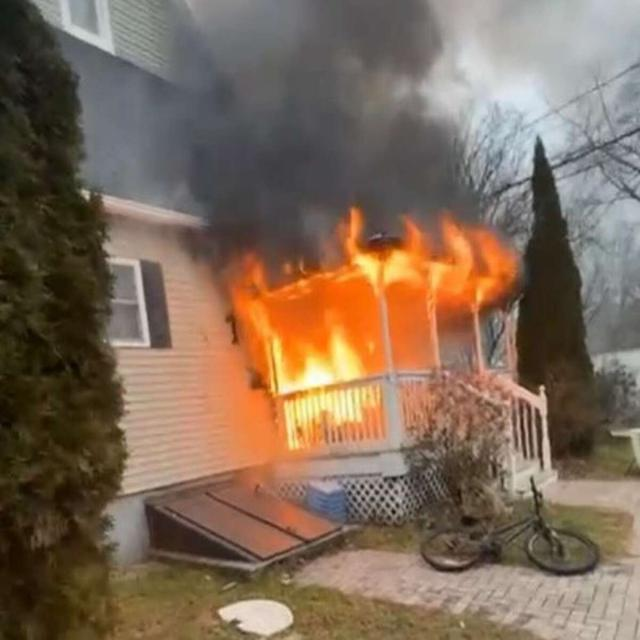Fire: (232, 248, 384, 446), (332, 208, 520, 307)
Smoke: (155, 0, 483, 265)
